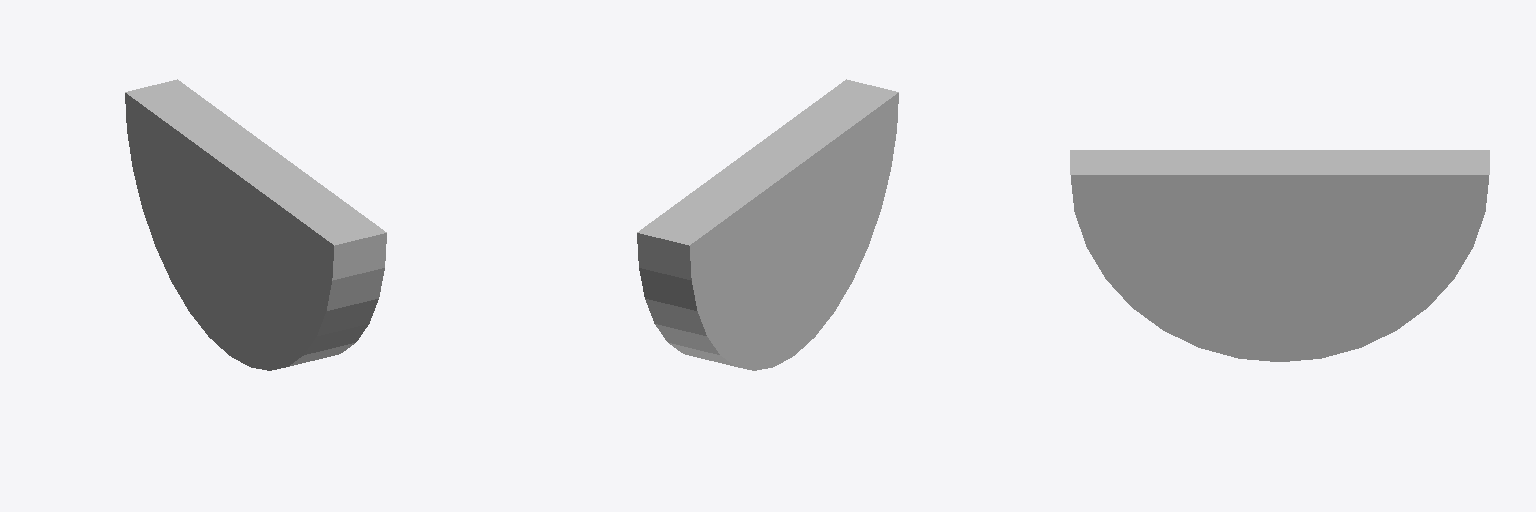
The model's file is doorcl.obj.
3 renders of one model, left to right at view 1: azimuth 30°, elevation 25°; view 2: azimuth 150°, elevation 25°; view 3: azimuth 270°, elevation 25°, orthographic.
Parts seen in each view (by area): view 1: doorcircle.l_Cylinder.007; view 2: doorcircle.l_Cylinder.007; view 3: doorcircle.l_Cylinder.007.
Boxes of the visible parts, x1,y1,x2,y2 form: doorcircle.l_Cylinder.007: [125, 79, 386, 370]; doorcircle.l_Cylinder.007: [637, 79, 898, 370]; doorcircle.l_Cylinder.007: [1070, 150, 1489, 361].
Size of the model in its own units: 0.0489 by 0.1657 by 0.3365.